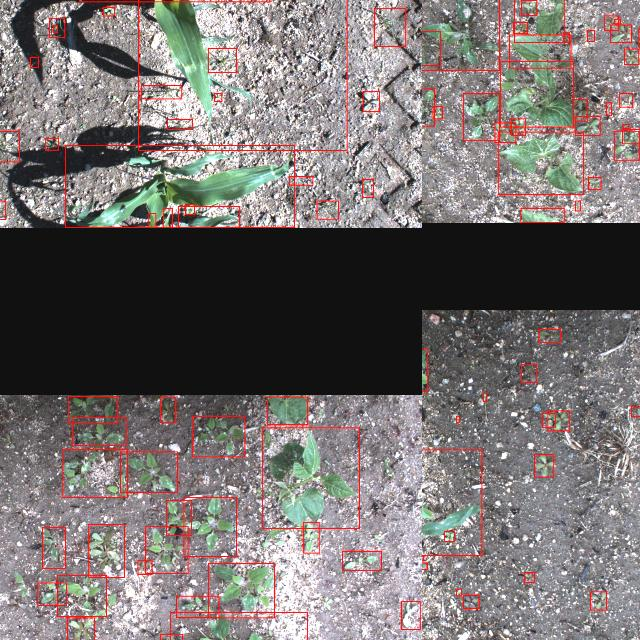crop: (138, 0, 346, 151), (64, 146, 294, 228), (262, 428, 358, 528), (422, 450, 481, 556), (497, 132, 583, 194), (500, 61, 572, 127), (513, 0, 563, 42), (510, 34, 570, 68), (178, 206, 238, 228), (266, 396, 308, 424), (520, 208, 564, 222), (162, 208, 172, 228), (147, 214, 155, 228)
weed: (422, 0, 499, 69), (169, 612, 306, 640), (208, 564, 274, 618), (182, 498, 235, 556), (62, 449, 126, 497), (120, 452, 177, 492), (192, 416, 244, 456), (145, 526, 187, 574), (56, 576, 106, 616), (88, 524, 124, 578), (463, 94, 499, 140), (71, 416, 125, 446), (67, 396, 117, 422), (373, 8, 405, 46), (176, 596, 218, 618), (42, 528, 64, 568), (166, 500, 190, 534), (342, 550, 381, 570), (36, 582, 66, 606), (208, 48, 236, 72), (614, 132, 638, 160), (66, 617, 94, 640), (0, 131, 19, 162), (140, 85, 182, 99), (422, 31, 439, 65), (400, 601, 420, 629), (574, 116, 600, 136), (302, 522, 318, 552), (533, 454, 553, 478), (422, 88, 434, 125), (494, 123, 516, 143), (547, 411, 569, 431), (316, 201, 338, 219), (160, 396, 174, 422), (610, 25, 630, 43), (362, 92, 378, 112), (48, 18, 64, 38), (573, 99, 587, 121), (538, 328, 560, 342), (520, 363, 536, 382), (510, 118, 526, 136), (590, 592, 606, 610), (621, 129, 640, 144), (166, 119, 192, 129), (624, 49, 638, 65), (462, 595, 478, 609), (603, 15, 617, 30), (520, 0, 535, 14), (290, 177, 312, 186), (618, 93, 632, 107), (137, 560, 151, 574), (362, 180, 372, 198), (44, 138, 58, 150), (513, 22, 527, 34), (542, 413, 554, 427), (588, 178, 600, 190), (432, 106, 442, 120), (102, 7, 114, 16), (523, 572, 533, 582), (444, 531, 454, 541), (29, 56, 37, 68), (586, 30, 594, 42), (184, 205, 193, 215), (631, 406, 640, 416), (213, 93, 221, 101), (563, 33, 569, 43), (574, 201, 580, 211), (606, 102, 610, 116), (52, 26, 58, 32), (482, 393, 486, 401), (422, 562, 426, 569), (622, 124, 628, 128), (614, 19, 620, 23), (456, 590, 460, 596), (456, 416, 458, 422)
